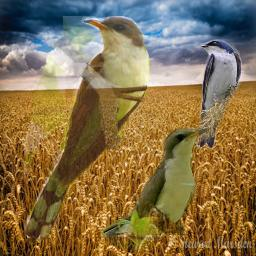Cuckoo: (24, 16, 150, 246), (102, 125, 210, 253)
Swallow: (195, 39, 242, 149)
